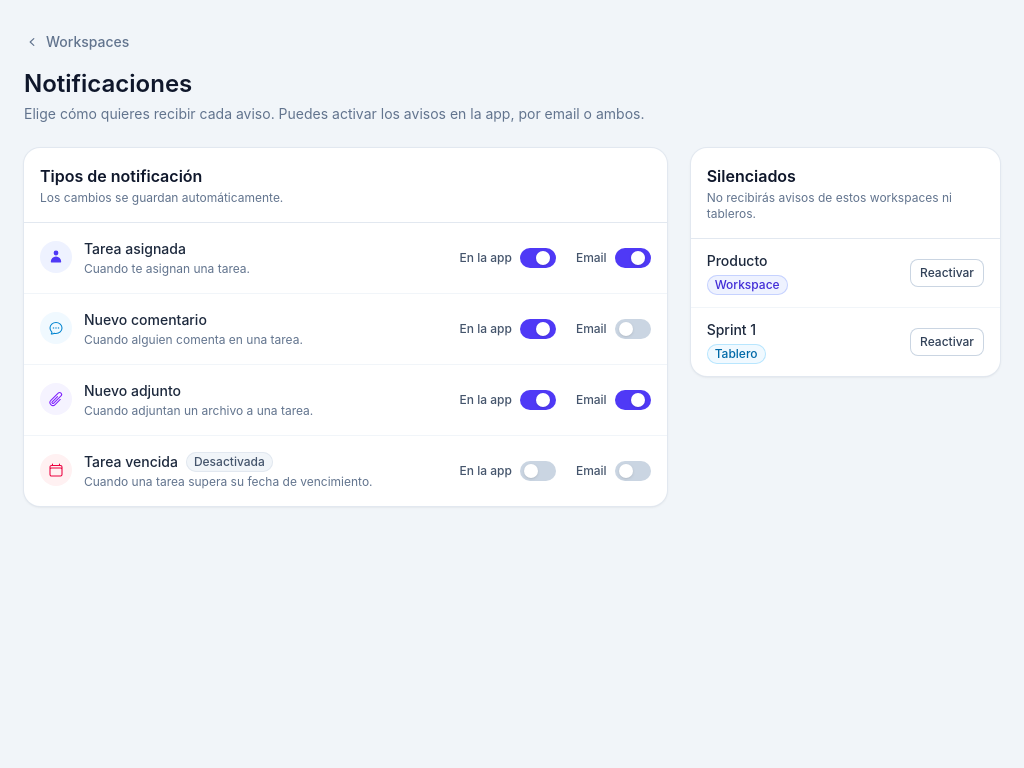
Test: NotificationSettingsPage › rolls back a mute removal and shows the API error
The image size is (1024, 768).
Step 1. Click the button with aria-label "Reactivar notificaciones de Producto" → {"x": 947, "y": 273}, box [910,259,984,287]
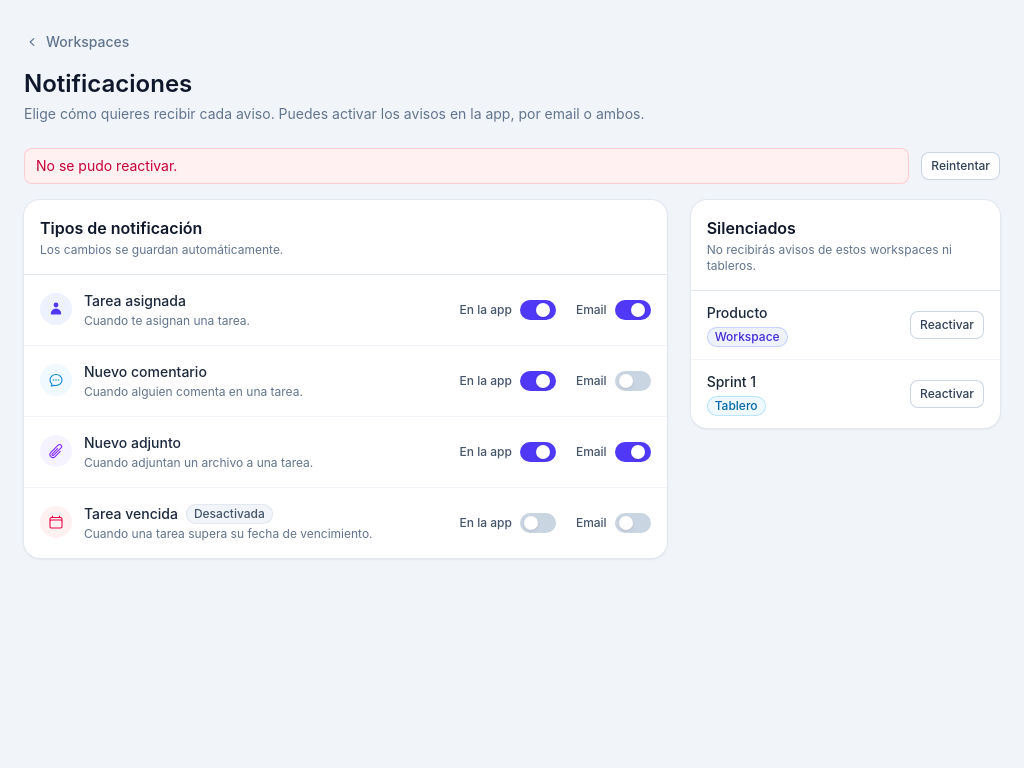
Expected: the text "Producto" is shown, [707,304,768,321]
Expected: the message reads "No se pudo reactivar.", [36,157,177,174]
